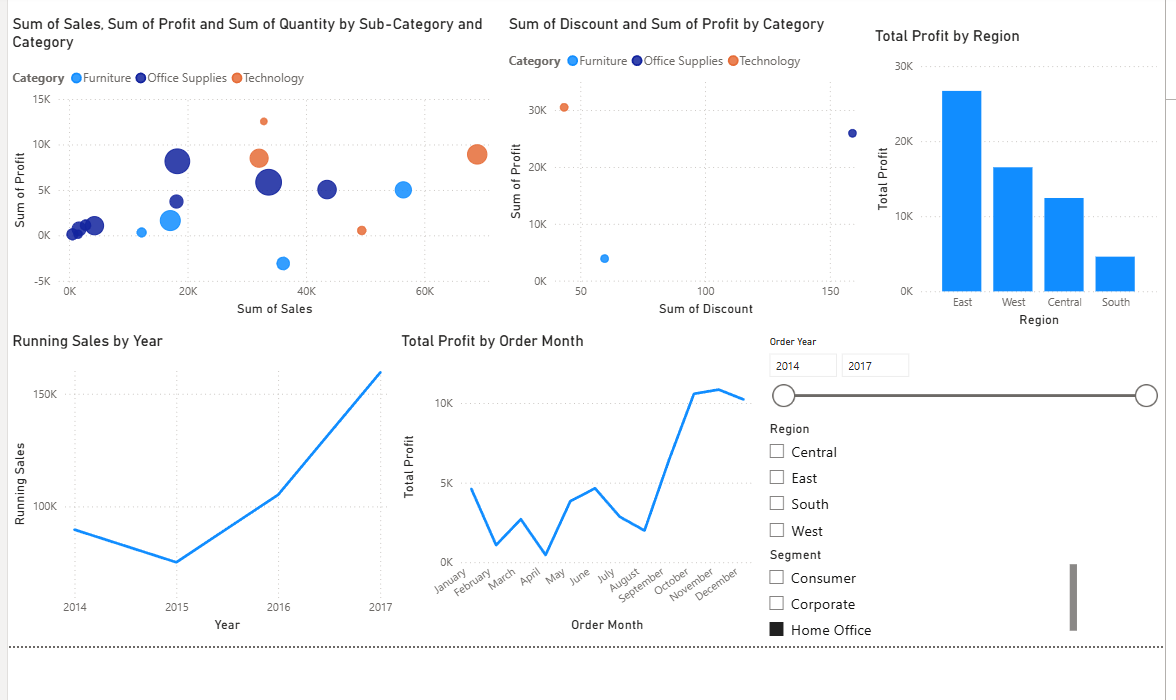

This screenshot's page, from the dashboard's own definition file:
{"tool":"powerbi","page":{"name":"Business Insights","canvas":[1280,720],"ordinal":2},"visuals":[{"type":"scatterChart","fields":{"Y":["Sum(superstore_cleaned.Profit)"],"X":["Sum(superstore_cleaned.Sales)"],"Size":["Sum(superstore_cleaned.Quantity)"],"Category":["superstore_cleaned.Sub-Category"],"Series":["superstore_cleaned.Category"]},"box":[0,22.1,548.9,337.6],"z":0},{"type":"scatterChart","fields":{"X":["Sum(superstore_cleaned.Discount)"],"Y":["Sum(superstore_cleaned.Profit)"],"Series":["superstore_cleaned.Category"]},"box":[548.9,22.1,405.1,337.4],"z":1},{"type":"lineChart","fields":{"Category":["superstore_cleaned.Order Month"],"Y":["superstore_cleaned.Total Profit"]},"box":[430,371.9,399.6,337.4],"z":2},{"type":"lineChart","fields":{"Category":["superstore_cleaned.Order Date.Variation.Date Hierarchy.Year","superstore_cleaned.Order Date.Variation.Date Hierarchy.Quarter","superstore_cleaned.Order Date.Variation.Date Hierarchy.Month","superstore_cleaned.Order Date.Variation.Date Hierarchy.Day"],"Y":["superstore_cleaned.Running Sales"]},"box":[0,371.9,430,337.4],"z":3},{"type":"columnChart","fields":{"Y":["superstore_cleaned.Total Profit"],"Category":["superstore_cleaned.Region"]},"box":[954,34.6,322,337],"z":4},{"type":"slicer","fields":{"Values":["superstore_cleaned.Order Year"]},"box":[829.6,371.9,450.7,94],"z":5},{"type":"slicer","fields":{"Values":["superstore_cleaned.Region"]},"box":[829.6,465.9,450.7,157.6],"z":6},{"type":"slicer","fields":{"Values":["superstore_cleaned.Segment"]},"box":[829.6,605.6,358.1,114.8],"z":7}]}

Visuals, with their boxes on the page's 1280x720 design canvas (x1, y1, x2, y2). These are canvas units, not pixel positions in the 1176x700 screenshot, which may show the page scaled, cropped or inside an application window:
scatterChart - Sum(superstore_cleaned.Profit) x Sum(superstore_cleaned.Sales): box=[0, 22, 549, 360]
scatterChart - Sum(superstore_cleaned.Discount) x Sum(superstore_cleaned.Profit): box=[549, 22, 954, 360]
lineChart - superstore_cleaned.Order Month x superstore_cleaned.Total Profit: box=[430, 372, 830, 709]
lineChart - superstore_cleaned.Order Date.Variation.Date Hierarchy.Year x superstore_cleaned.Order Date.Variation.Date Hierarchy.Quarter: box=[0, 372, 430, 709]
columnChart - superstore_cleaned.Total Profit x superstore_cleaned.Region: box=[954, 35, 1276, 372]
slicer - superstore_cleaned.Order Year: box=[830, 372, 1280, 466]
slicer - superstore_cleaned.Region: box=[830, 466, 1280, 624]
slicer - superstore_cleaned.Segment: box=[830, 606, 1188, 720]
